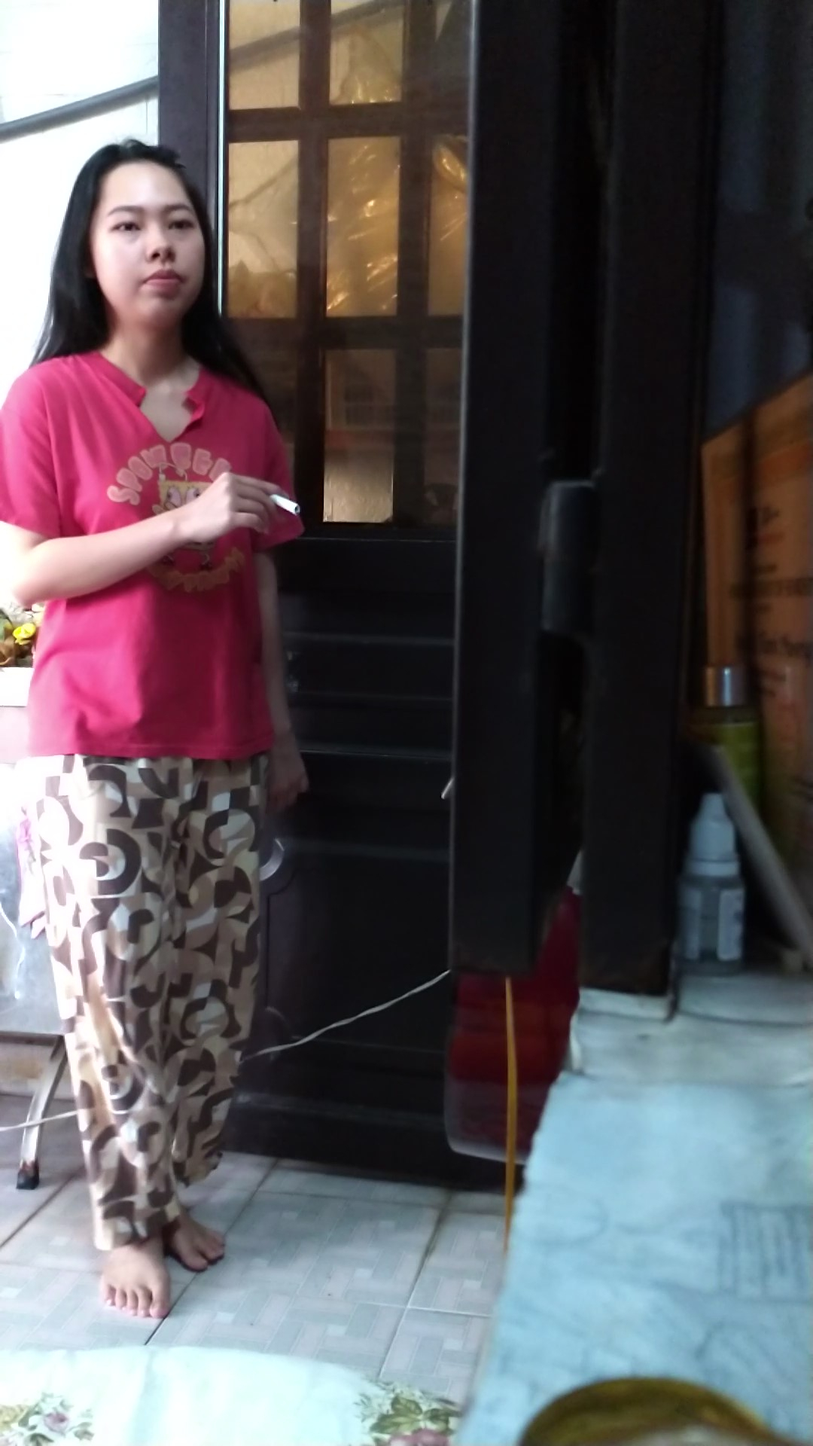cigarette: (269, 494, 303, 520)
person: (0, 148, 311, 1319)
